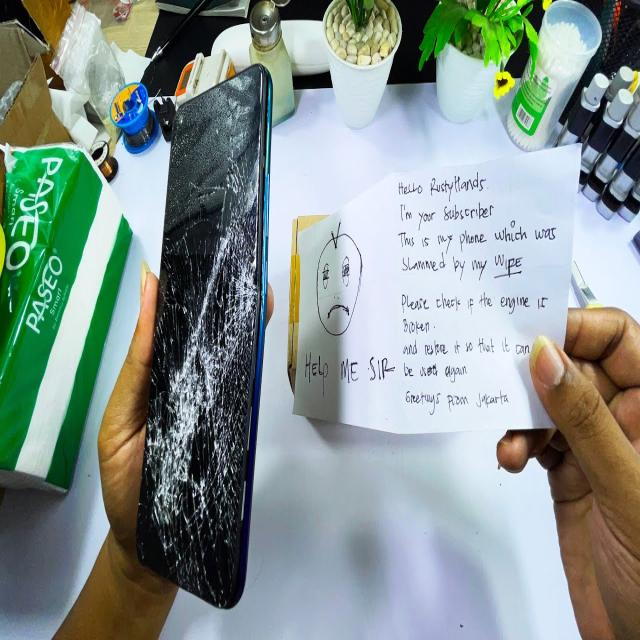mobile phone: (134, 60, 273, 609)
